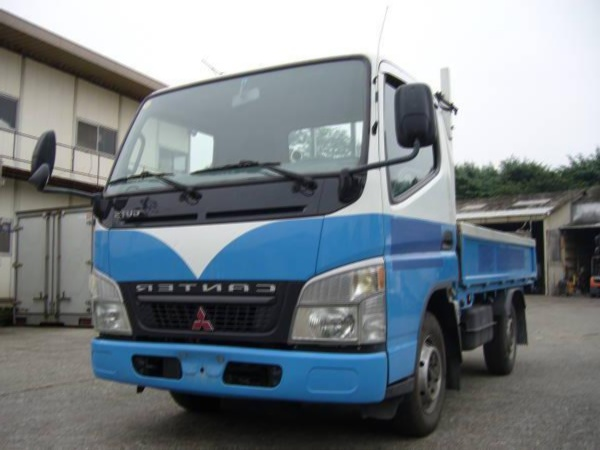truck: (89, 55, 537, 440)
